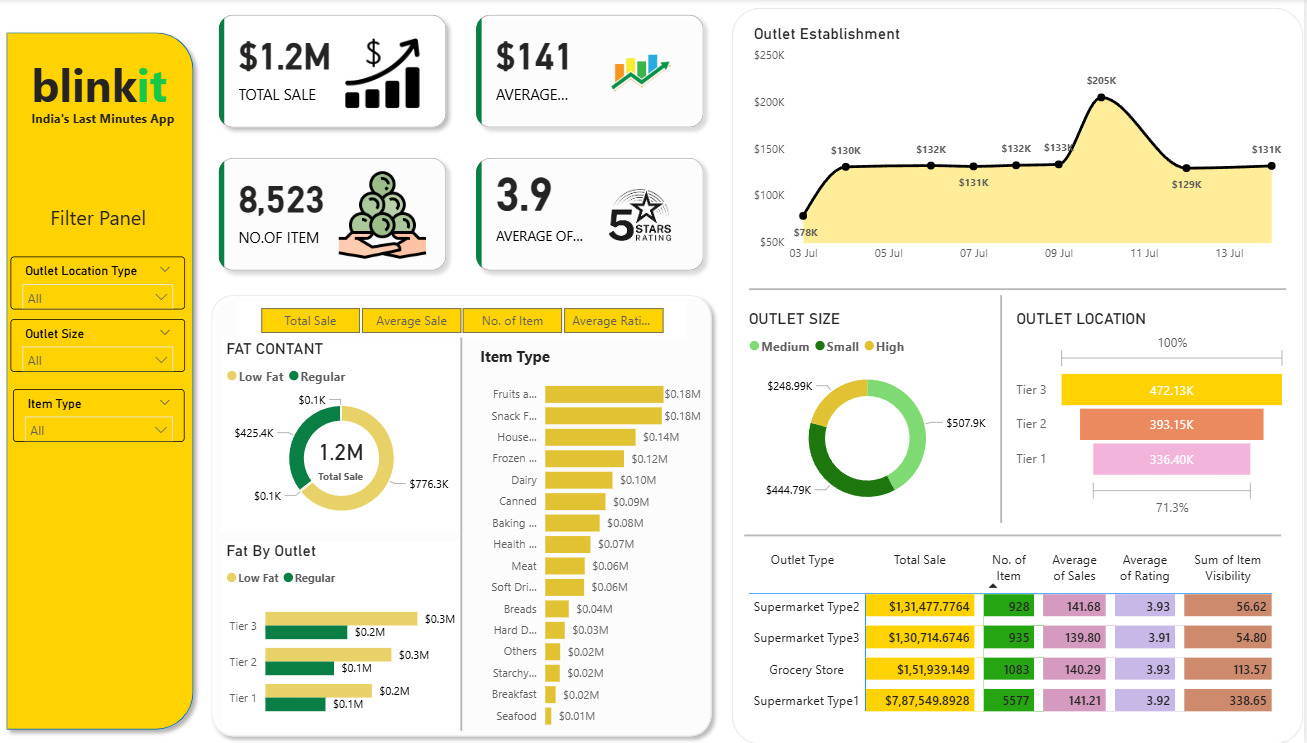

What the dashboard file says about the page in this screenshot:
{"tool":"powerbi","page":{"name":"Page 1","canvas":[1400,800],"ordinal":0},"visuals":[{"type":"shape","box":[0,27.1,218.6,765.7],"z":0},{"type":"textbox","box":[31.3,53,169.8,74.7],"z":1000},{"type":"textbox","box":[31.3,114.1,169.8,28.5],"z":2000},{"type":"cardVisual","fields":{"Data":["BlinkIT Grocery Data.Total Sale","BlinkIT Grocery Data.Average Sale","CountNonNull(BlinkIT Grocery Data.Item Type)","Avg(BlinkIT Grocery Data.Rating)"]},"box":[220,0,554.3,308.6],"z":3000},{"type":"shape","box":[220,308.6,554.3,491.4],"z":4000},{"type":"slicer","fields":{"Values":["Matrics.Matrics"]},"box":[255.7,324.3,481.4,40],"z":5000},{"type":"donutChart","title":"FAT CONTANT","fields":{"Y":["BlinkIT Grocery Data.No. of Item"],"Category":["BlinkIT Grocery Data.Item Fat Content"]},"box":[240,364.3,257.1,207.1],"z":6000},{"type":"card","fields":{"Values":["BlinkIT Grocery Data.No. of Item"]},"box":[331.4,458.6,72.9,67.1],"z":7000},{"type":"clusteredBarChart","title":"Fat By Outlet","fields":{"Y":["BlinkIT Grocery Data.No. of Item"],"Category":["BlinkIT Grocery Data.Outlet Location Type"],"Series":["BlinkIT Grocery Data.Item Fat Content"]},"box":[240,581.4,257.1,204.3],"z":8000},{"type":"shape","box":[482.9,362.9,28.6,421.4],"z":9000},{"type":"barChart","title":"Item Type","fields":{"Y":["BlinkIT Grocery Data.Total Sale"],"Category":["BlinkIT Grocery Data.Item Type"]},"box":[511.4,371.4,247.1,421.4],"z":10000},{"type":"shape","box":[787.1,10,612.9,790],"z":11000},{"type":"lineChart","title":"Outlet Establishment","fields":{"Y":["BlinkIT Grocery Data.Total Sale"],"Category":["BlinkIT Grocery Data.Outlet Establishment Year.Variation.Date Hierarchy.Year","BlinkIT Grocery Data.Outlet Establishment Year.Variation.Date Hierarchy.Quarter","BlinkIT Grocery Data.Outlet Establishment Year.Variation.Date Hierarchy.Month","BlinkIT Grocery Data.Outlet Establishment Year.Variation.Date Hierarchy.Day"]},"box":[805.7,27.1,581.4,264.3],"z":12000},{"type":"donutChart","title":"OUTLET SIZE","fields":{"Y":["BlinkIT Grocery Data.Total Sale"],"Category":["BlinkIT Grocery Data.Outlet Size"]},"box":[800,332.9,264.3,228.6],"z":13000},{"type":"funnel","title":"OUTLET LOCATION","fields":{"Y":["Sum(BlinkIT Grocery Data.Sales)"],"Category":["BlinkIT Grocery Data.Outlet Location Type"]},"box":[1087.1,332.9,300,228.6],"z":14000},{"type":"pivotTable","fields":{"Rows":["BlinkIT Grocery Data.Outlet Type"],"Values":["BlinkIT Grocery Data.Total Sale","BlinkIT Grocery Data.No. of Item","Avg(BlinkIT Grocery Data.Sales)","Avg(BlinkIT Grocery Data.Rating)","Sum(BlinkIT Grocery Data.Item Visibility)"]},"box":[800,582.9,587.1,192.9],"z":15000},{"type":"shape","box":[800,561.4,575.7,27.1],"z":16000},{"type":"shape","box":[805.7,297.1,575.7,27.1],"z":17000},{"type":"shape","box":[1064.3,317.1,22.9,244.3],"z":18000},{"type":"slicer","fields":{"Values":["BlinkIT Grocery Data.Outlet Location Type"]},"box":[12.9,275.7,187.1,57.1],"z":19000},{"type":"slicer","fields":{"Values":["BlinkIT Grocery Data.Outlet Size"]},"box":[12.9,342.9,187.1,57.1],"z":20000},{"type":"slicer","fields":{"Values":["BlinkIT Grocery Data.Item Type"]},"box":[15.7,418.6,184.3,57.1],"z":21000},{"type":"textbox","box":[51.4,214.3,112.9,42],"z":22000}]}

Visuals, with their boxes in screenshot pixels (x1, y1, x2, y2), scaled from the page's 1400x800 canvas onto the 1307x743 screenshot:
shape: 0, 25, 204, 736
textbox: 29, 49, 188, 119
textbox: 29, 106, 188, 132
cardVisual - BlinkIT Grocery Data.Total Sale x BlinkIT Grocery Data.Average Sale: 205, 0, 723, 287
shape: 205, 287, 723, 742
slicer - Matrics.Matrics: 239, 301, 688, 338
"FAT CONTANT" donutChart: 224, 338, 464, 531
card - BlinkIT Grocery Data.No. of Item: 309, 426, 377, 488
"Fat By Outlet" clusteredBarChart: 224, 540, 464, 730
shape: 451, 337, 478, 728
"Item Type" barChart: 477, 345, 708, 736
shape: 735, 9, 1306, 742
"Outlet Establishment" lineChart: 752, 25, 1295, 271
"OUTLET SIZE" donutChart: 747, 309, 994, 521
"OUTLET LOCATION" funnel: 1015, 309, 1295, 521
pivotTable - BlinkIT Grocery Data.Outlet Type x BlinkIT Grocery Data.Total Sale: 747, 541, 1295, 721
shape: 747, 521, 1284, 547
shape: 752, 276, 1290, 301
shape: 994, 295, 1015, 521
slicer - BlinkIT Grocery Data.Outlet Location Type: 12, 256, 187, 309
slicer - BlinkIT Grocery Data.Outlet Size: 12, 318, 187, 372
slicer - BlinkIT Grocery Data.Item Type: 15, 389, 187, 442
textbox: 48, 199, 153, 238
